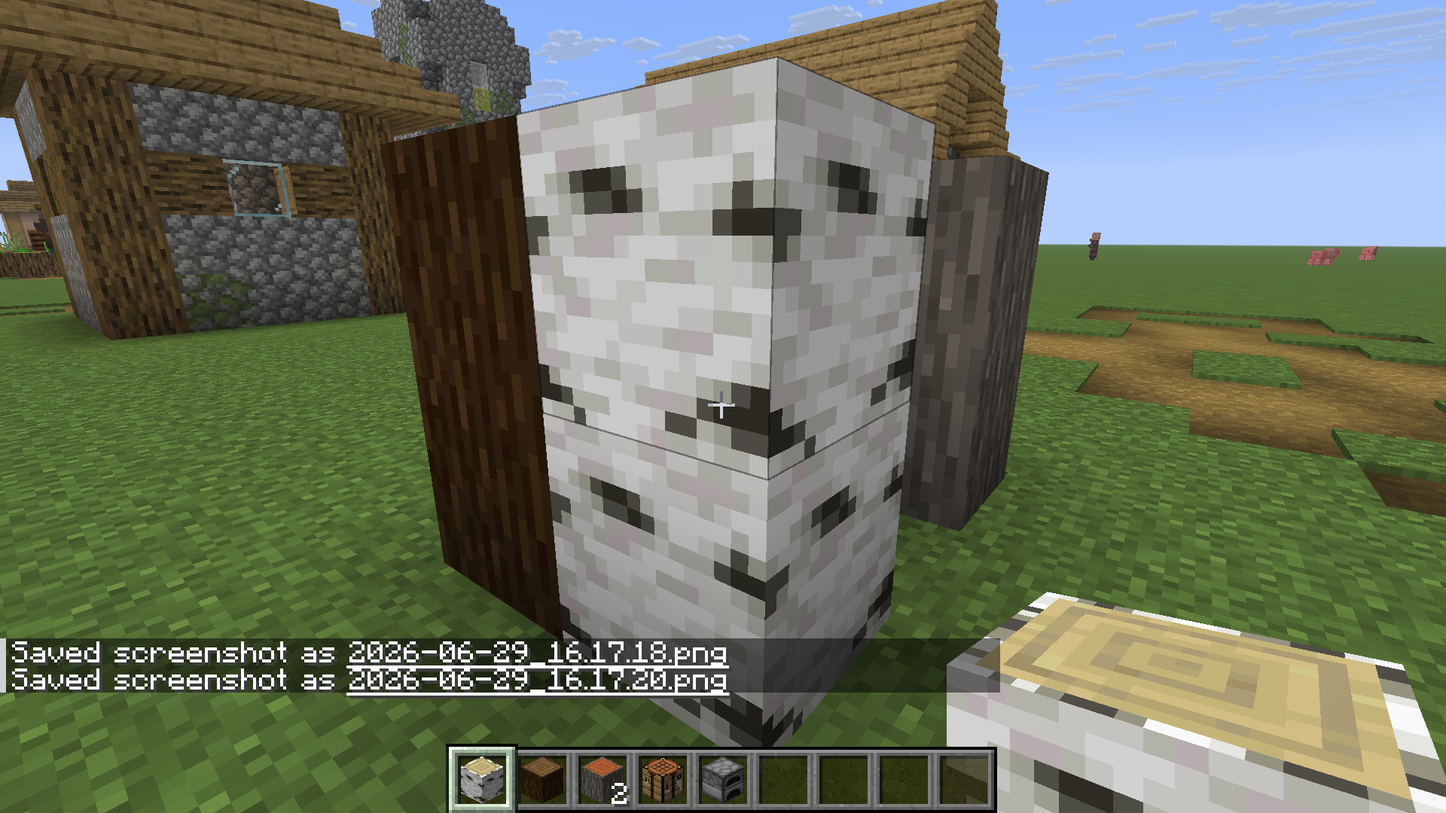cablestone: (241, 217, 366, 319)
villager: (1089, 228, 1106, 258)
wood 2: (901, 160, 1048, 530)
wood 3: (383, 117, 559, 638)
wood 4: (517, 59, 935, 478), (966, 597, 1432, 812), (544, 402, 912, 642)
